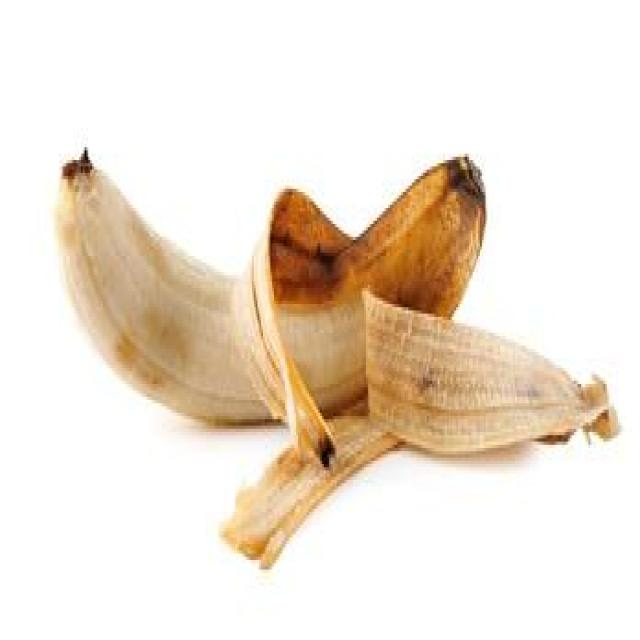banana_peel: (52, 124, 631, 589)
